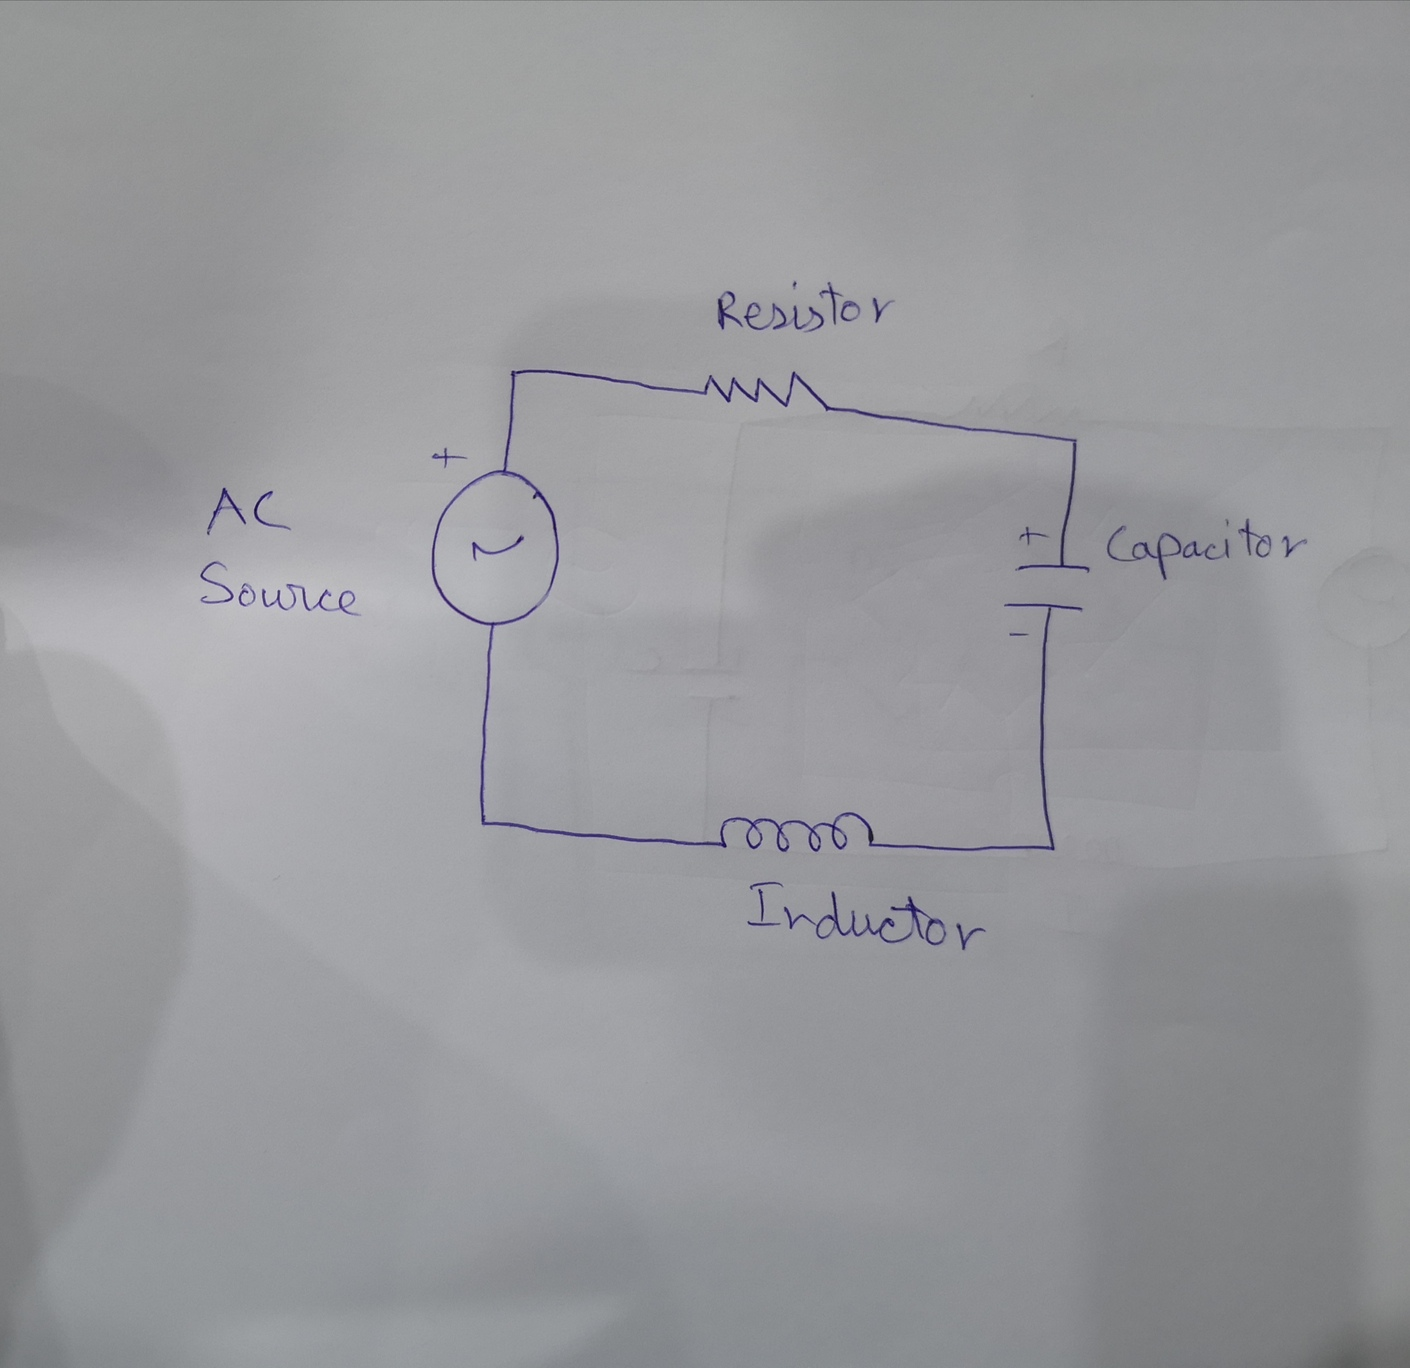capacitor.polarized: (998, 524, 1091, 641)
inductor: (718, 804, 879, 858)
junction: (465, 799, 512, 839), (501, 357, 533, 389), (1039, 834, 1064, 860), (1061, 430, 1086, 453)
resistor: (692, 364, 830, 418)
text: (742, 875, 991, 955), (1100, 512, 1311, 583), (193, 558, 368, 625), (710, 276, 899, 339), (201, 482, 298, 542)
voltage.dc: (426, 440, 573, 633)
